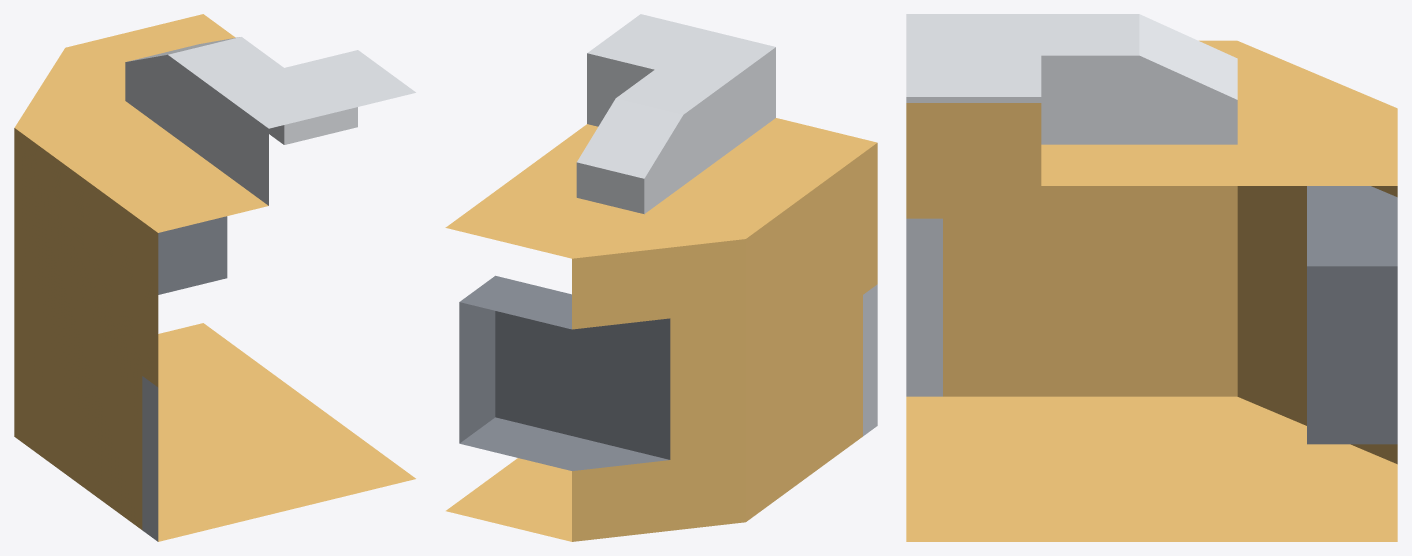
3 views of the same model, side by side, from view 1: azimuth 30°, elevation 25°; view 2: azimuth 150°, elevation 25°; view 3: azimuth 270°, elevation 25° (orthographic). The views are drawn at different scales.
Size of the model in its own units: 0.7 by 1 by 1.
